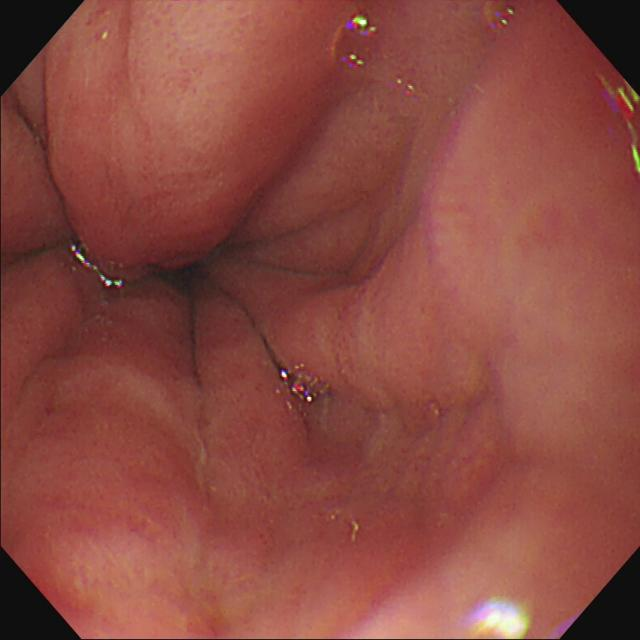A: (97, 2, 261, 145)
E: (158, 257, 208, 303)
U: (602, 76, 640, 175), (72, 241, 123, 292), (471, 602, 532, 640), (280, 362, 324, 411), (347, 10, 381, 44), (344, 48, 369, 73)
